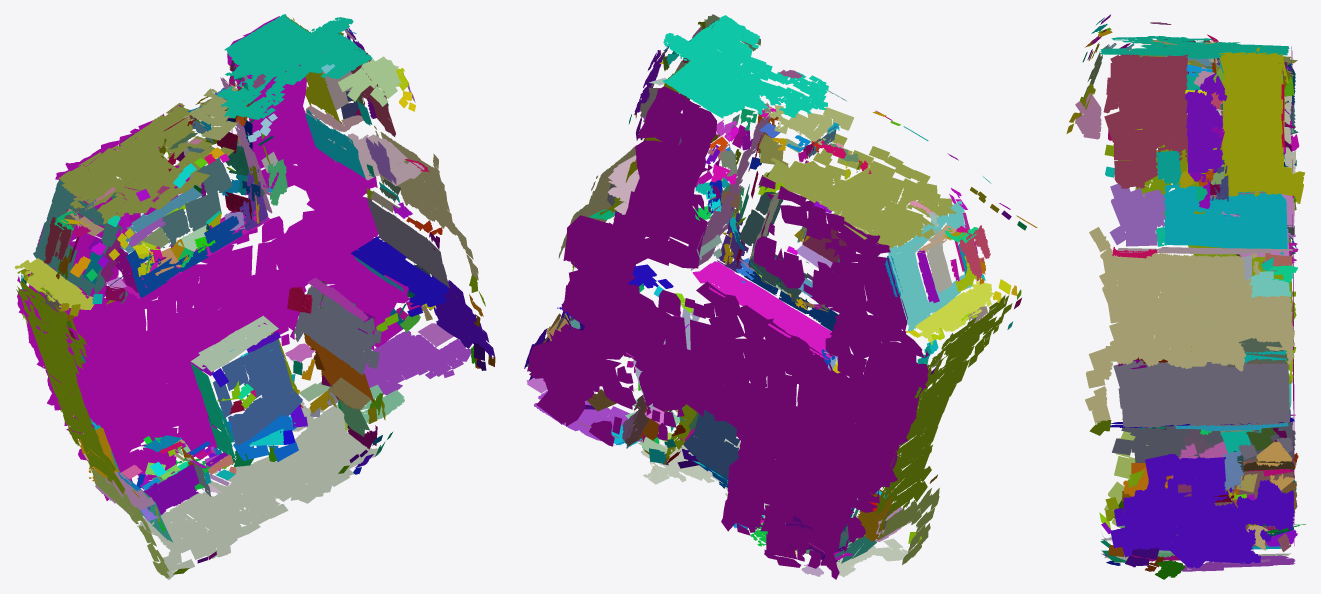
Rendered from planarsplat_scene0000.glb.
3 views of the same model, side by side, from view 1: azimuth 30°, elevation 25°; view 2: azimuth 150°, elevation 25°; view 3: azimuth 270°, elevation 25° (orthographic). The views are drawn at different scales.
Bounding box in the file's own units: 8.45 × 8.89 × 3.2.
